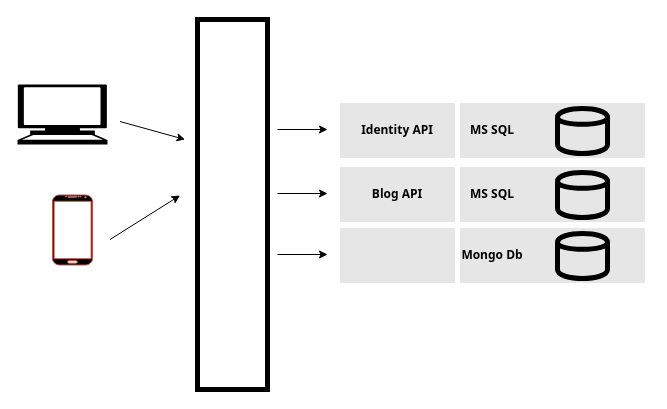
The diagram is 667 pixels wide and 409 high, and some of its shapes have lost their labels. The shapes that lost their labels are listed below. From the top down, each one's box as (x1, y1, x2, y2) in pixels, then its label:
(194, 16, 270, 392): Gateway API
(334, 222, 460, 288): Stats API
